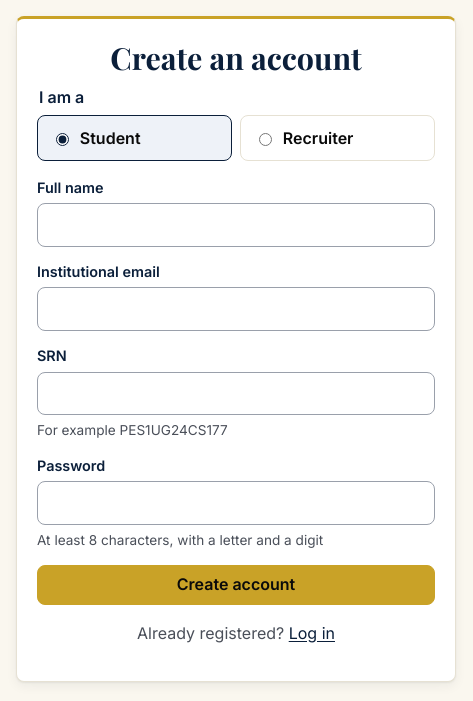
Register › keeps the input and shows server field errors
The width and height of the screenshot is (473, 701).
Click the radio button labelled "Recruiter".
click(265, 140)  # box left=259, top=133, right=272, bottom=146
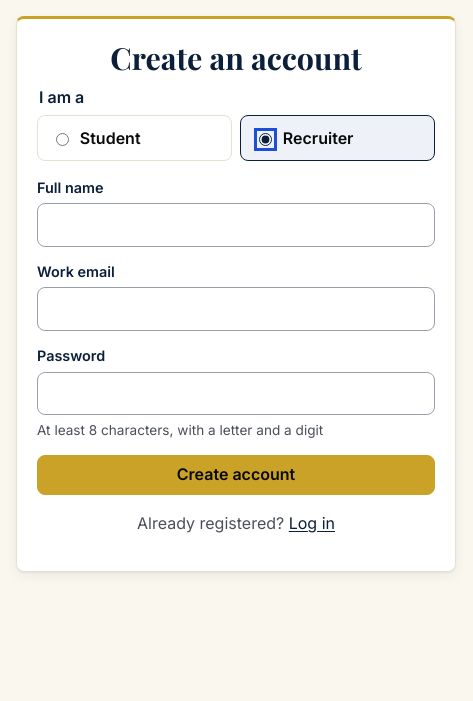
Type "Rec" into the field labelled "Full name".
click(236, 225); type("Rec")  # box left=37, top=203, right=435, bottom=247
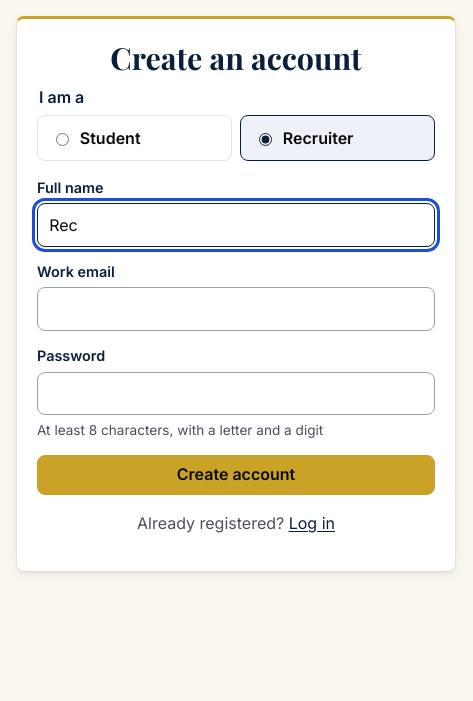
Type "rec@acme.io" into the field labelled "Work email".
click(236, 309); type("rec@acme.io")  # box left=37, top=287, right=435, bottom=331
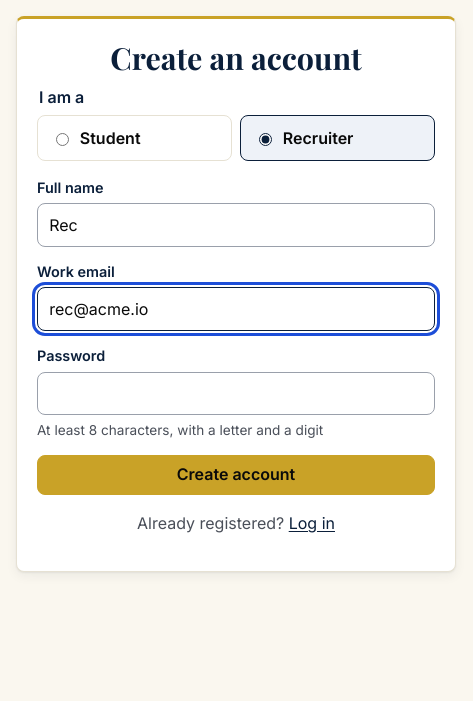
Type "Recruit123" into the password field labelled "Password".
click(236, 394); type("Recruit123")  # box left=37, top=372, right=435, bottom=415
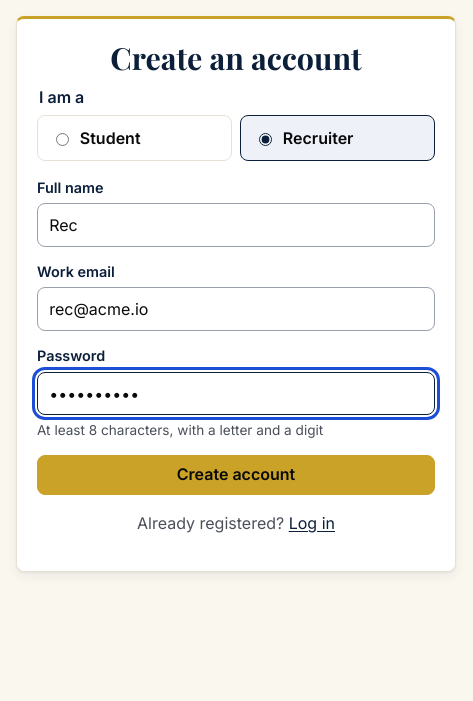
Click the button "Create account".
click(236, 475)  # box left=37, top=455, right=435, bottom=495
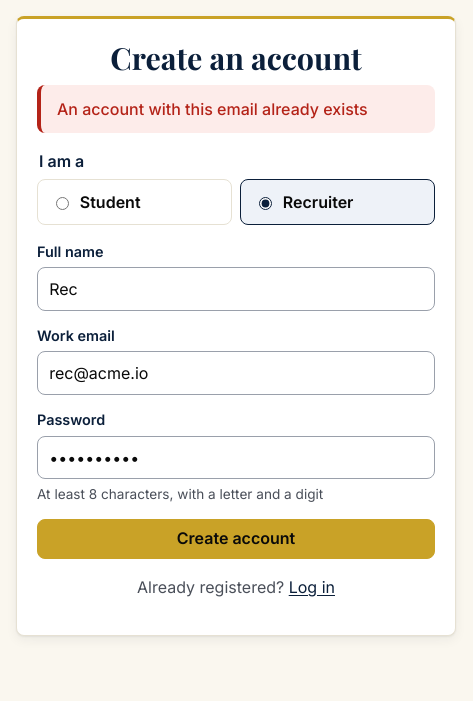
Expected: the message reads "An account with this email already exists", left=57, top=99, right=368, bottom=119
